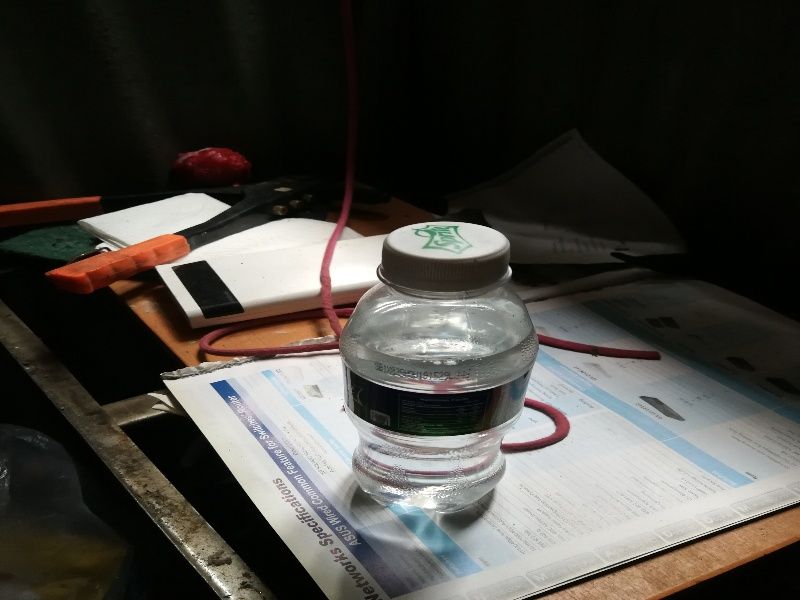PET #1: (336, 213, 540, 522)
